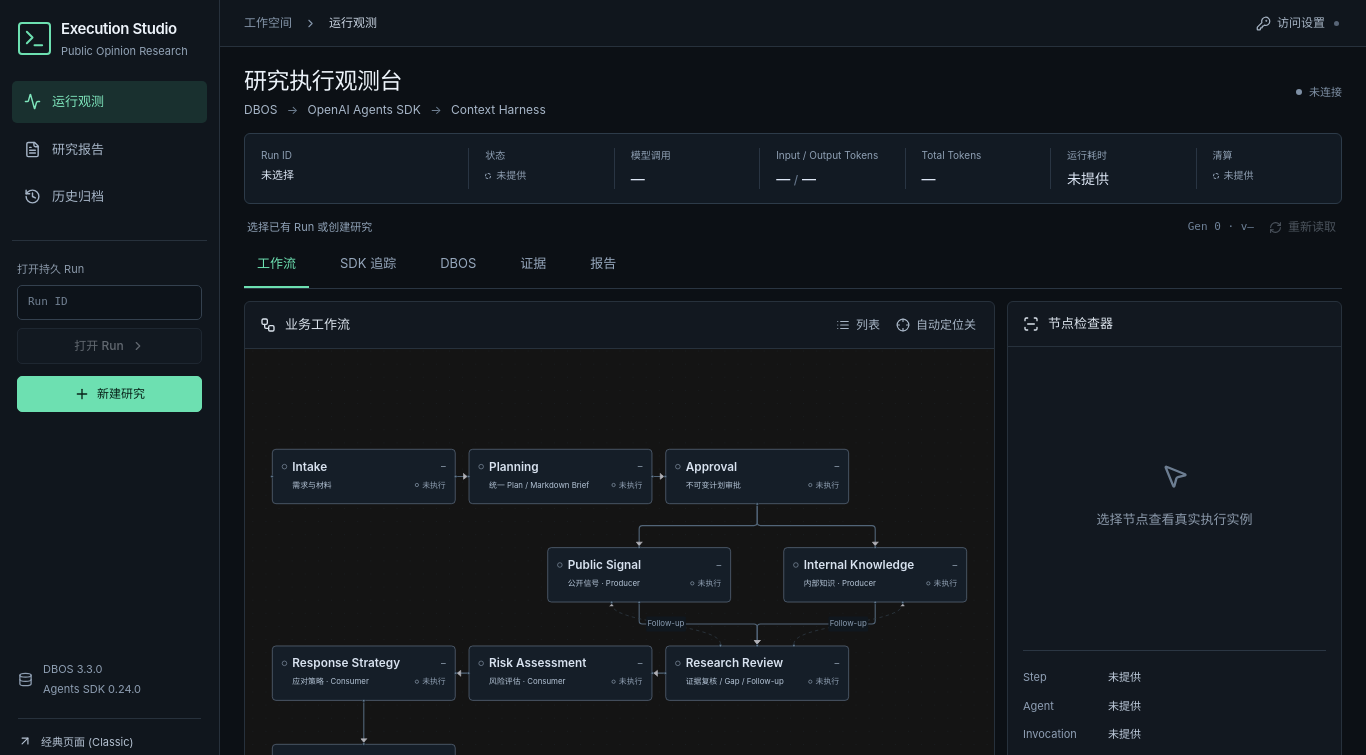
Test case: does not create work if request identity cannot be saved
The width and height of the screenshot is (1366, 755).
Click the button "新建研究" at (110, 394), box [17,376,202,412]
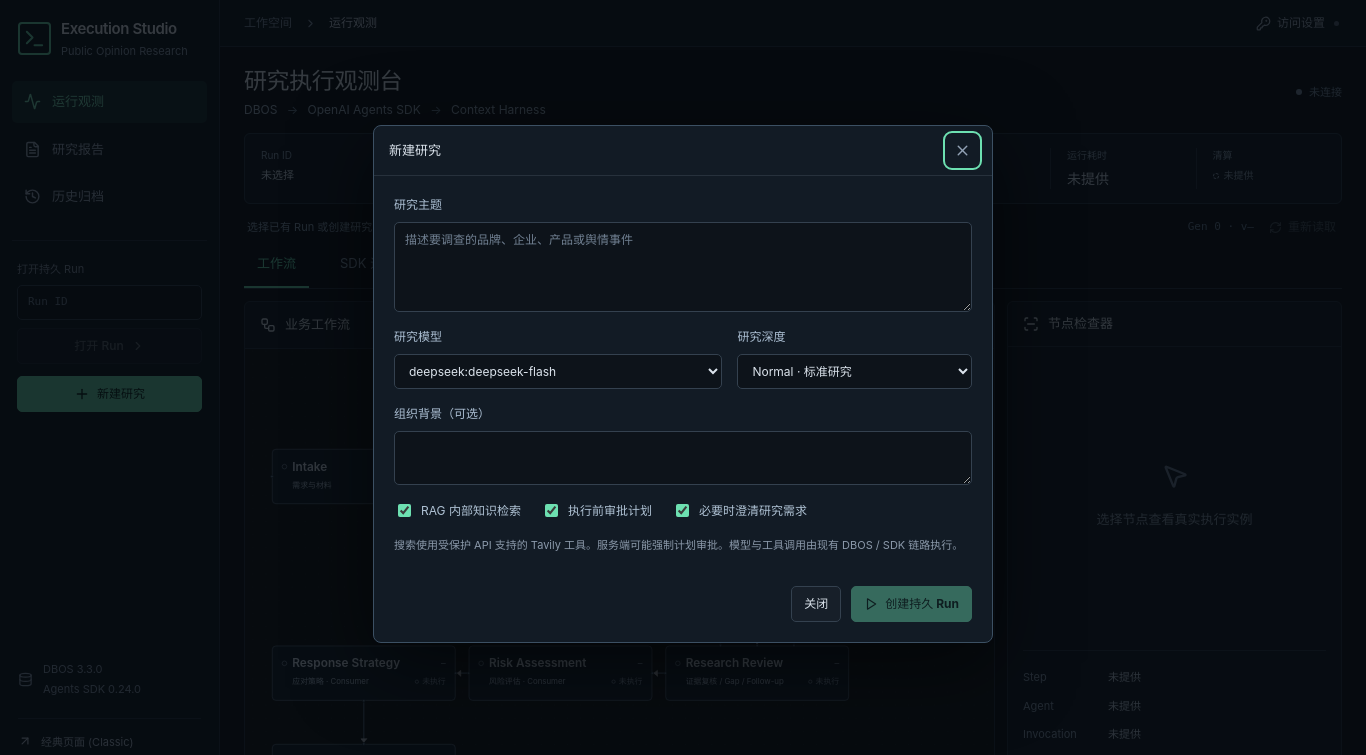
Type "Topic" into the text box labelled "研究主题" at (683, 267), box [394,222,972,312]
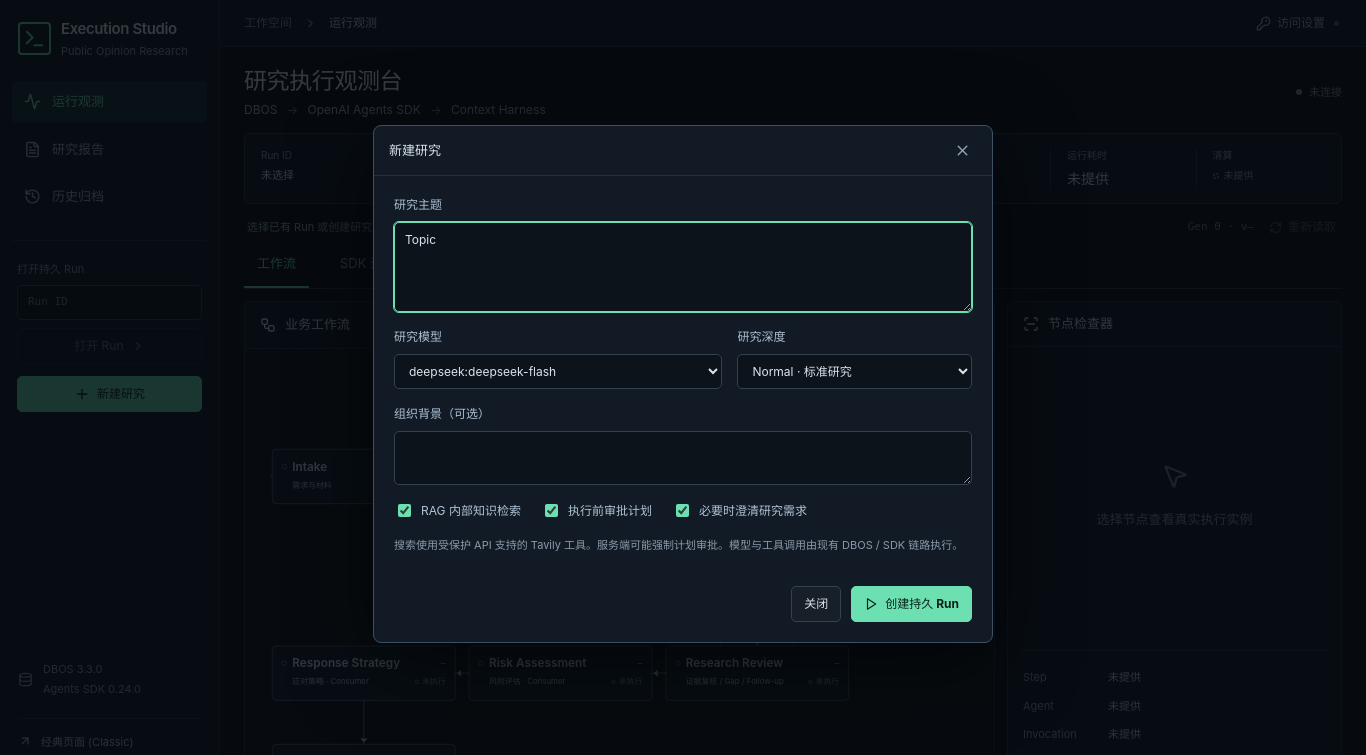
Click the button "创建持久 Run" at (912, 604), box [851,586,972,622]
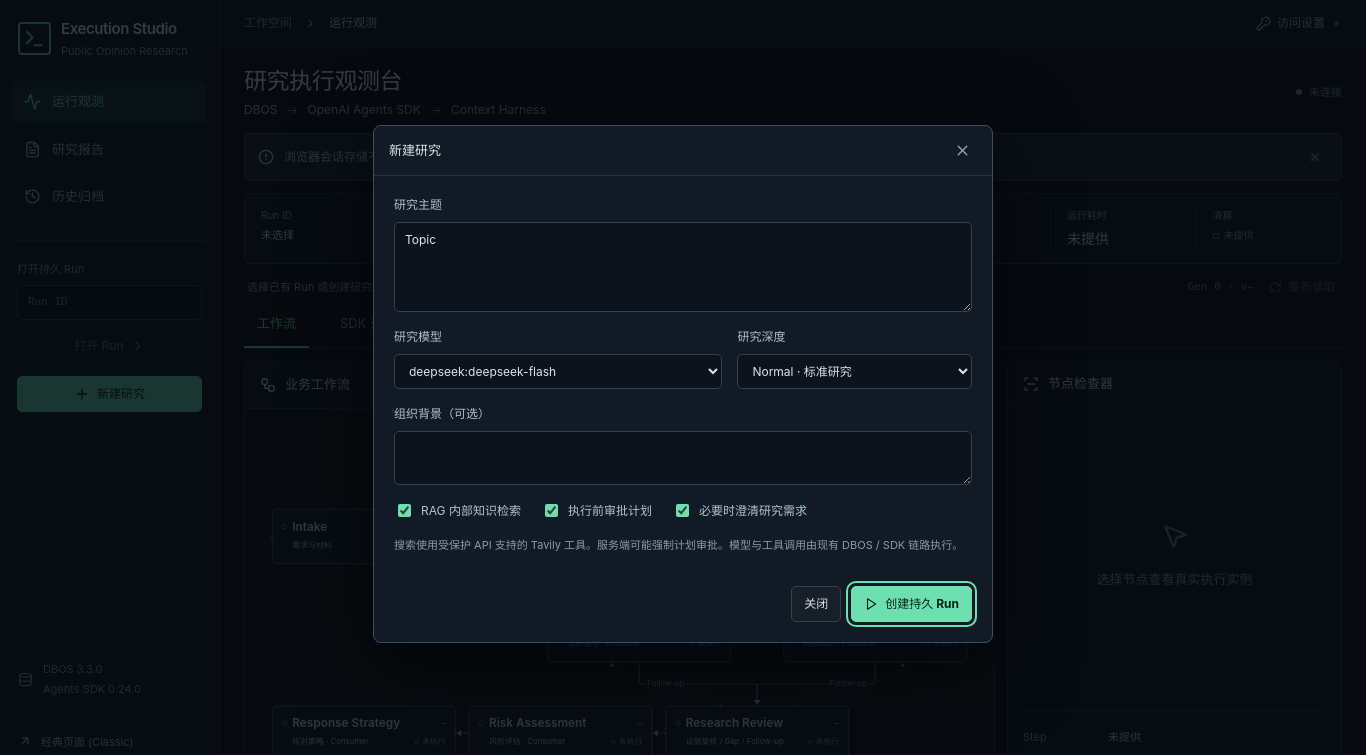
Result: the text "浏览器会话存储不可用；请启用后再创建研究。" is shown at [284,149,536,164]
